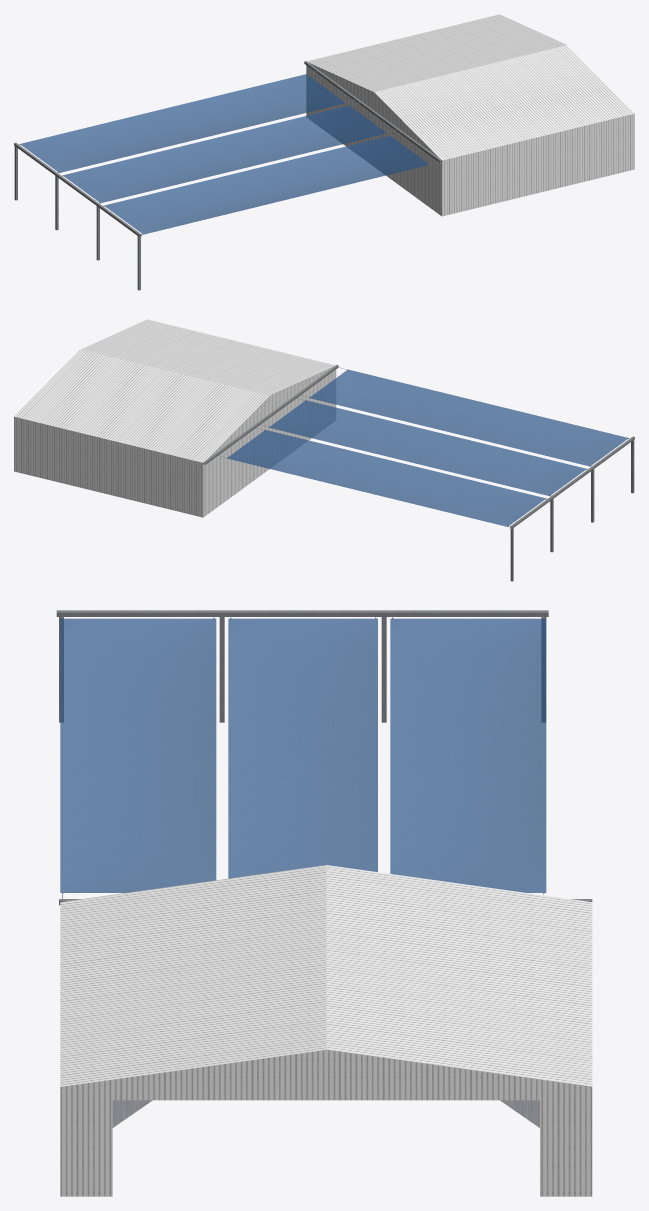
File: ChimNirLargeHangar_Felix_LOD1.gltf
3 views of the same model, one above another, from view 1: azimuth 30°, elevation 25°; view 2: azimuth 150°, elevation 25°; view 3: azimuth 270°, elevation 25° (orthographic). The views are drawn at different scales.
Parts seen in each view (by area): view 1: node7, node6, node5; view 2: node7, node6, node5; view 3: node7, node6, node5.
Boxes of the visible parts, <box> form: node7: <box>306,14,634,216</box>; node6: <box>20,74,429,234</box>; node5: <box>14,61,442,290</box>; node7: <box>14,319,336,517</box>; node6: <box>227,369,627,526</box>; node5: <box>203,365,634,581</box>; node7: <box>60,865,592,1196</box>; node6: <box>60,618,546,892</box>; node5: <box>56,610,592,1127</box>.
Size of the model in its own units: 46.3 by 6.66 by 22.05.
